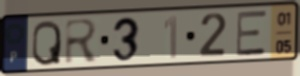1: (163, 14, 179, 60)
2: (198, 11, 230, 60)
3: (110, 14, 146, 65)
E: (235, 8, 268, 58)
Q: (30, 19, 64, 68)
R: (63, 17, 101, 67)
